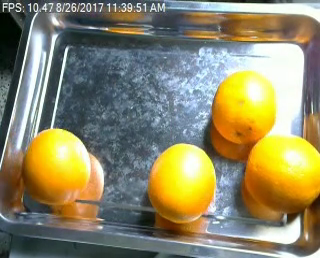Orange: (244, 134, 320, 214), (147, 142, 216, 223), (21, 127, 91, 205), (212, 72, 278, 143)
